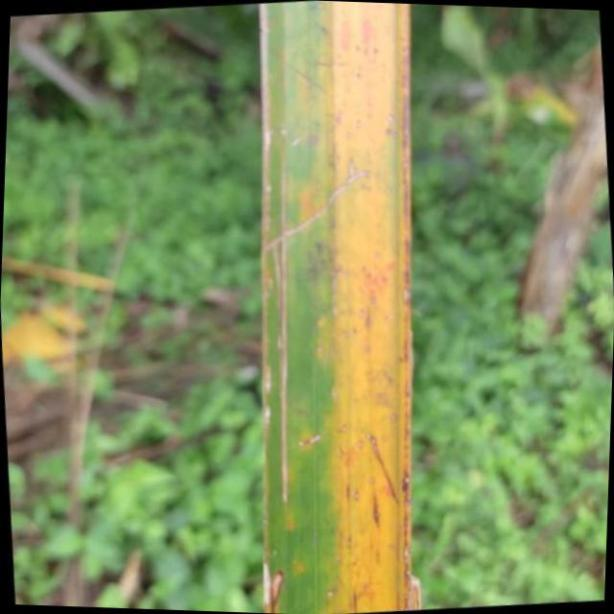Megnesium: (260, 1, 415, 614)
